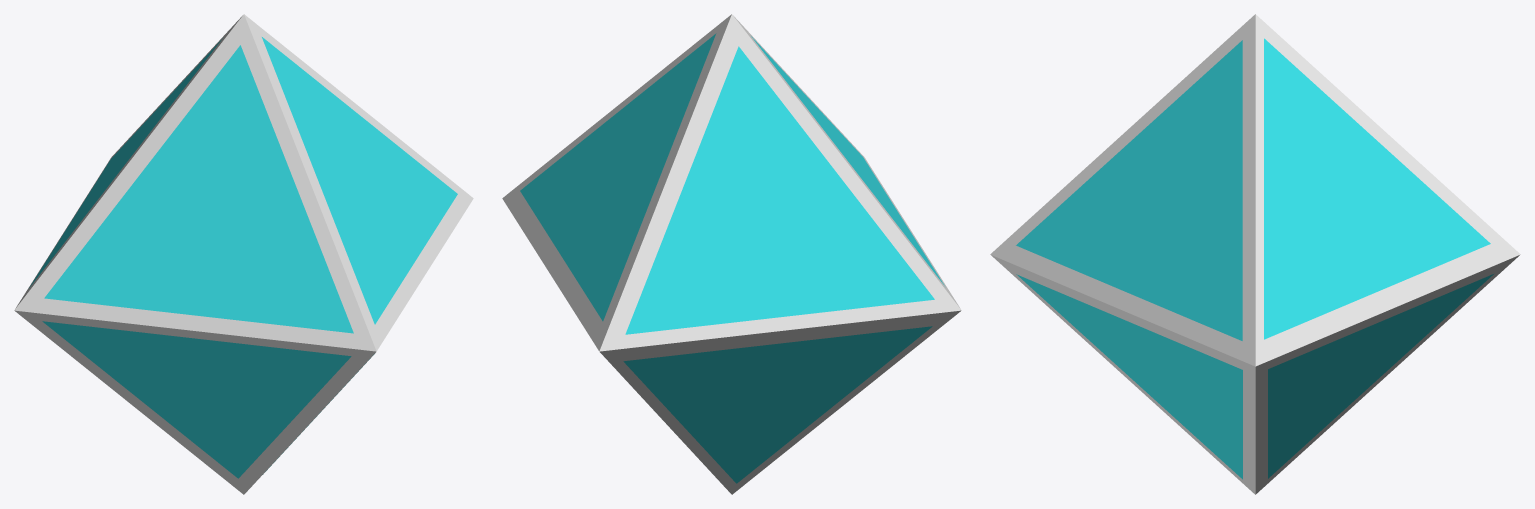
The model's file is octahedron2.glb.
The picture shows the model from 3 angles, left to right: view 1: azimuth 30°, elevation 25°; view 2: azimuth 150°, elevation 25°; view 3: azimuth 270°, elevation 25°; orthographic projection.
Visible parts, largest first — view 1: smallerlayers, largerlayers; view 2: smallerlayers, largerlayers; view 3: smallerlayers, largerlayers.
Boxes of the visible parts, x1=… form: smallerlayers: x1=29, y1=37, x2=457, y2=478; largerlayers: x1=14, y1=14, x2=473, y2=494; smallerlayers: x1=520, y1=33, x2=944, y2=483; largerlayers: x1=502, y1=14, x2=961, y2=494; smallerlayers: x1=1016, y1=38, x2=1493, y2=479; largerlayers: x1=990, y1=14, x2=1520, y2=494.
Bounding box in the file's own units: 2 × 2 × 2.
